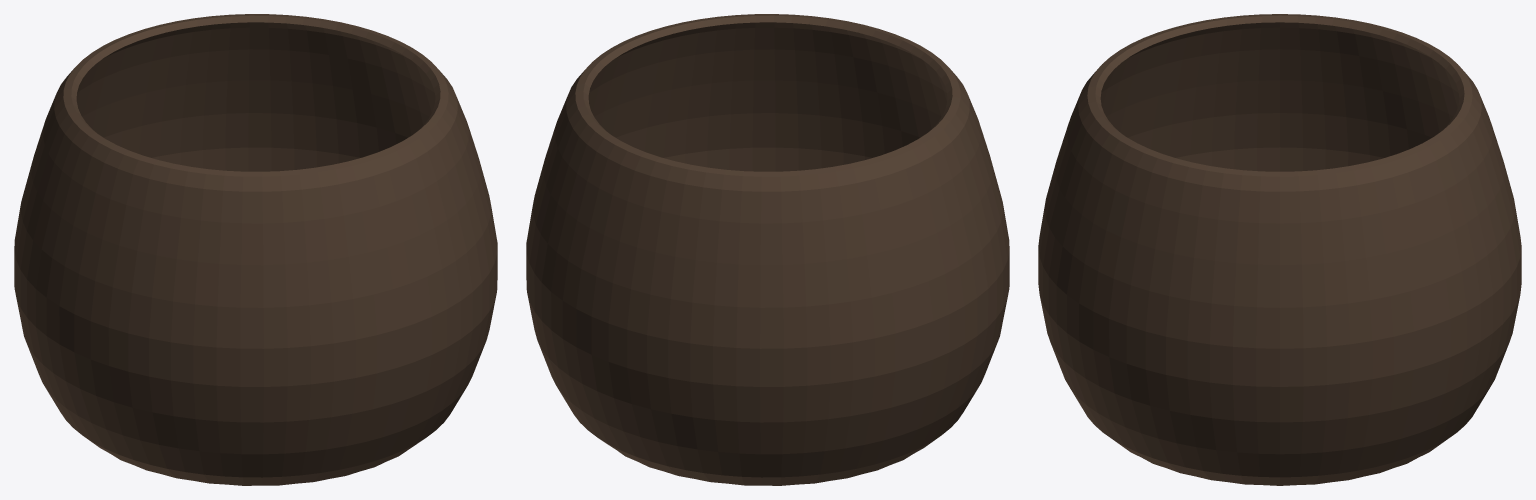
File: cauldron.fbx
3 views of the same model, side by side, from view 1: azimuth 30°, elevation 25°; view 2: azimuth 150°, elevation 25°; view 3: azimuth 270°, elevation 25° (orthographic).
Parts seen in each view (by area): view 1: Spell Pot.001; view 2: Spell Pot.001; view 3: Spell Pot.001.
Boxes of the visible parts, x1=… form: Spell Pot.001: x1=14, y1=14, x2=497, y2=485; Spell Pot.001: x1=526, y1=14, x2=1009, y2=485; Spell Pot.001: x1=1038, y1=14, x2=1521, y2=485.
Bounding box in the file's own units: 249 × 186 × 249.
